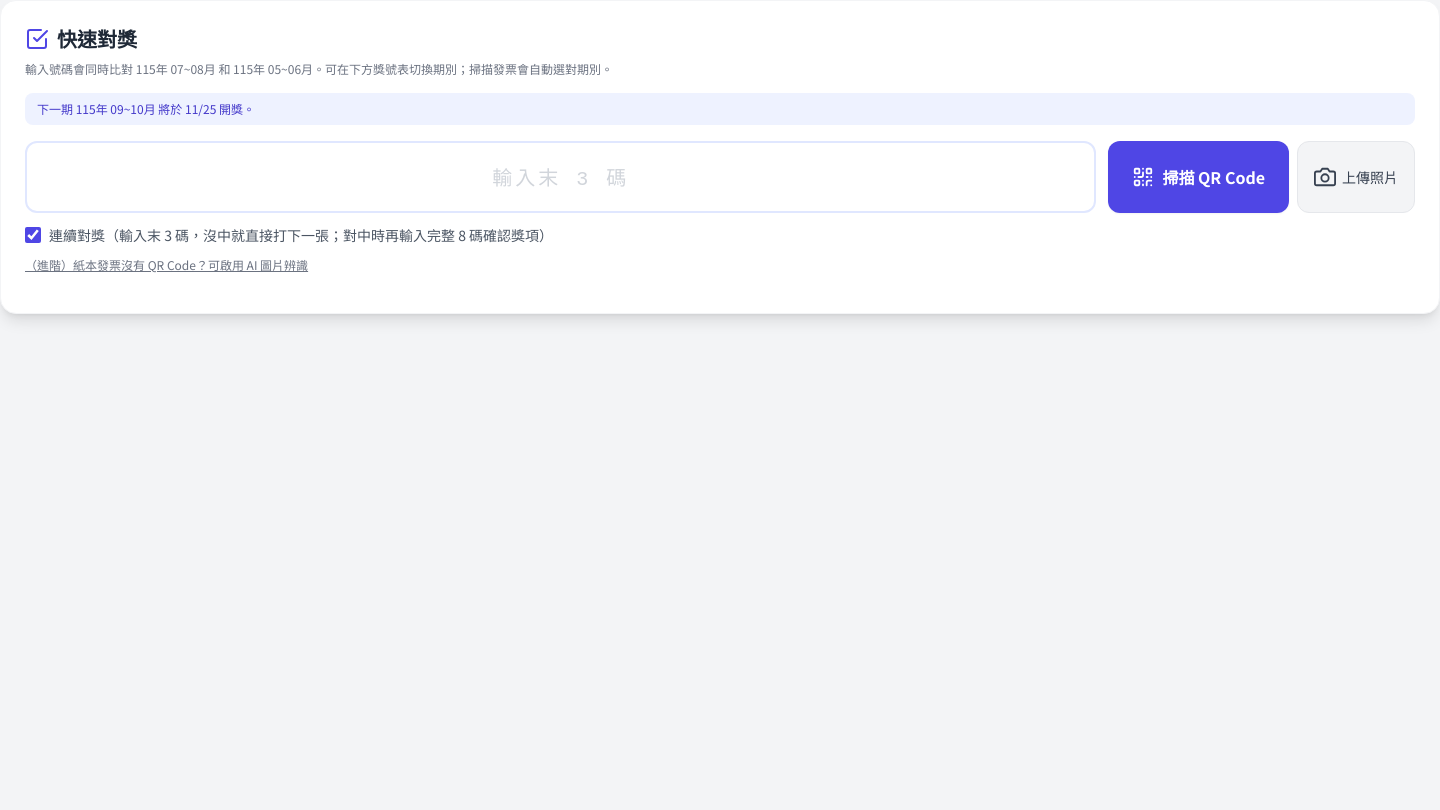
Scenario: 快速對獎畫面 › 清除按鈕清空輸入與結果
The image size is (1440, 810).
Click the checkbox labelled "連續對獎（輸入末 3 碼，沒中就直接打下一張；對中時再輸入完整 8 碼確認獎項）" at coordinates (33, 235), box [25,227,41,243]
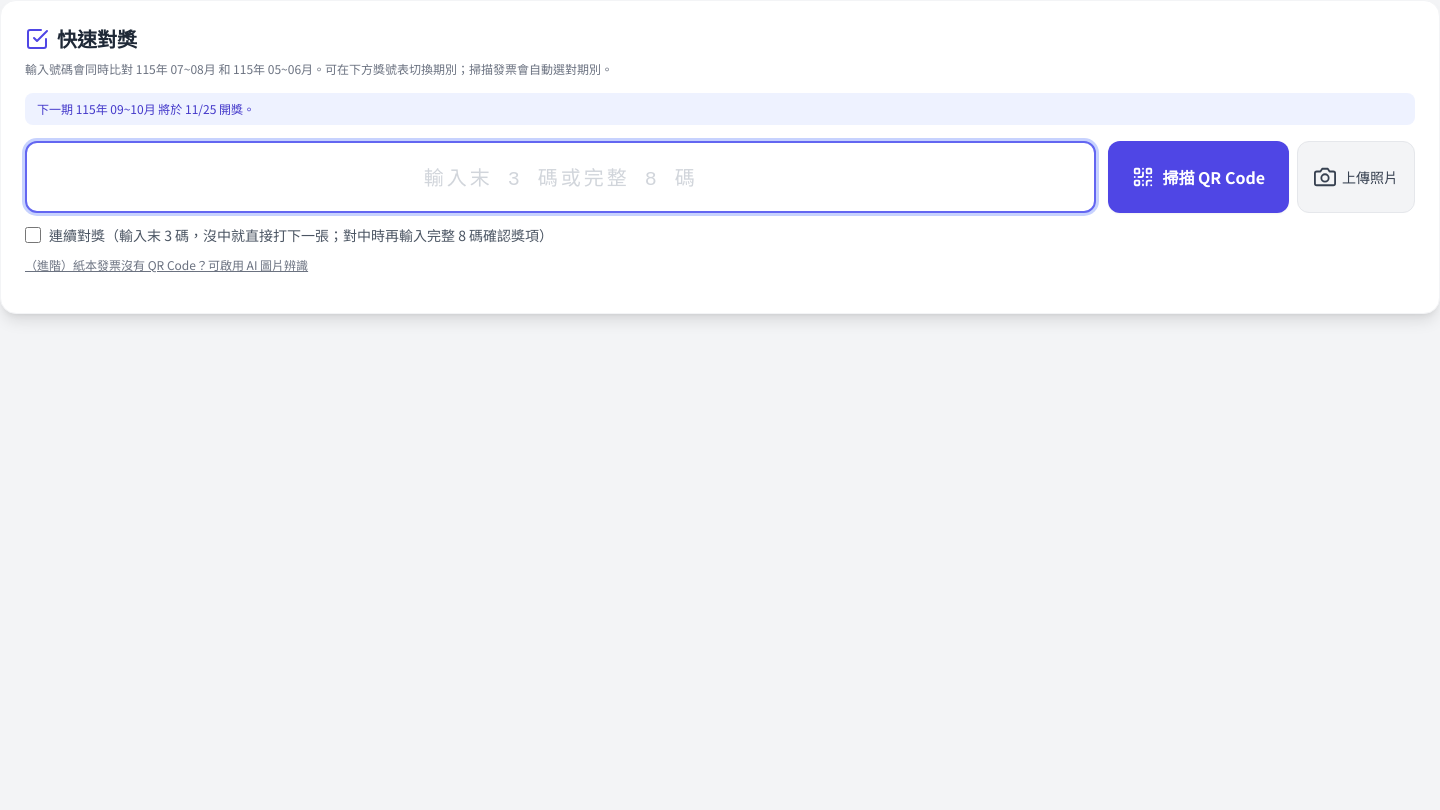
Type "835" into the field named "發票號碼" at coordinates (561, 177), box [25,141,1096,213]
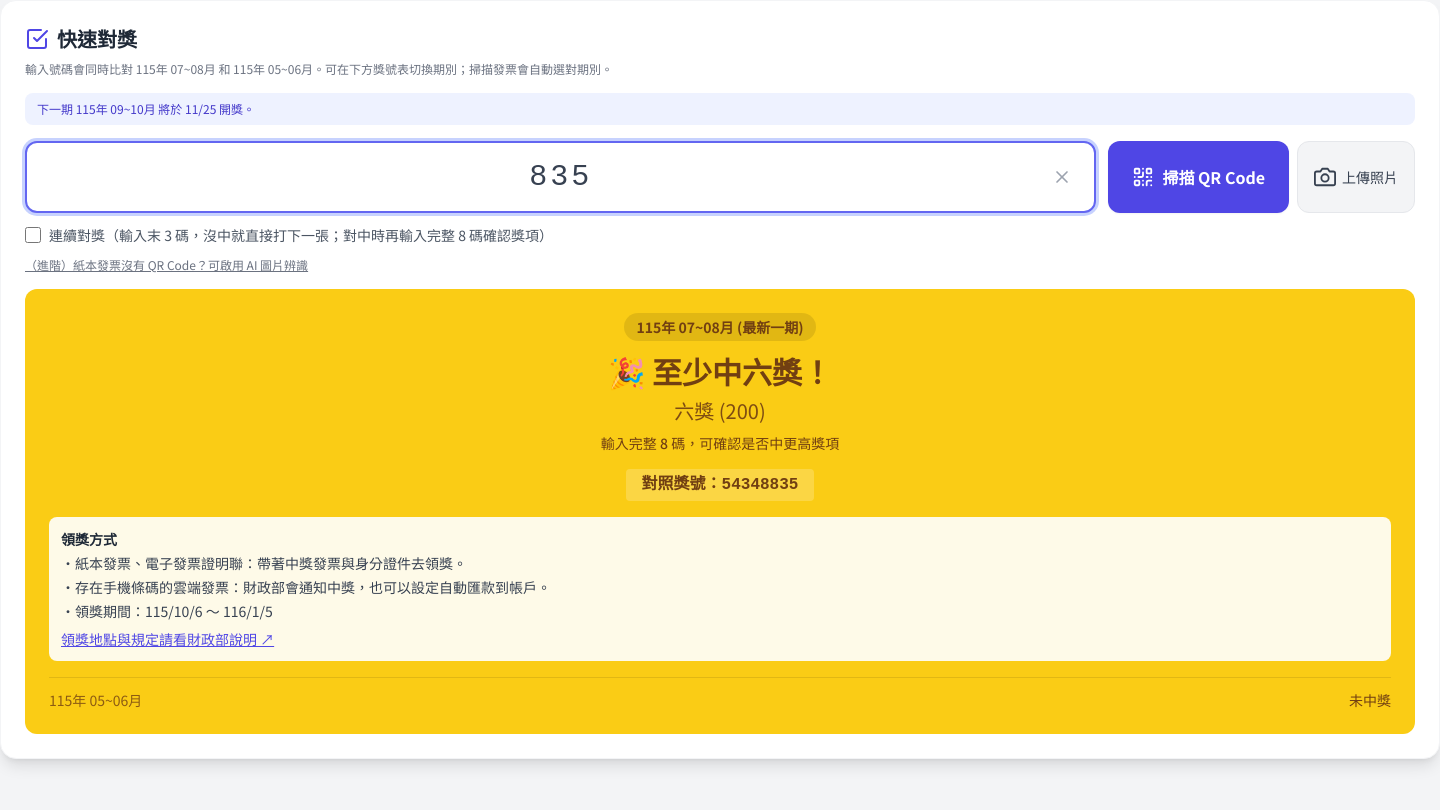
Click the button named "清除輸入" at coordinates (1062, 177), box [1044,159,1080,195]
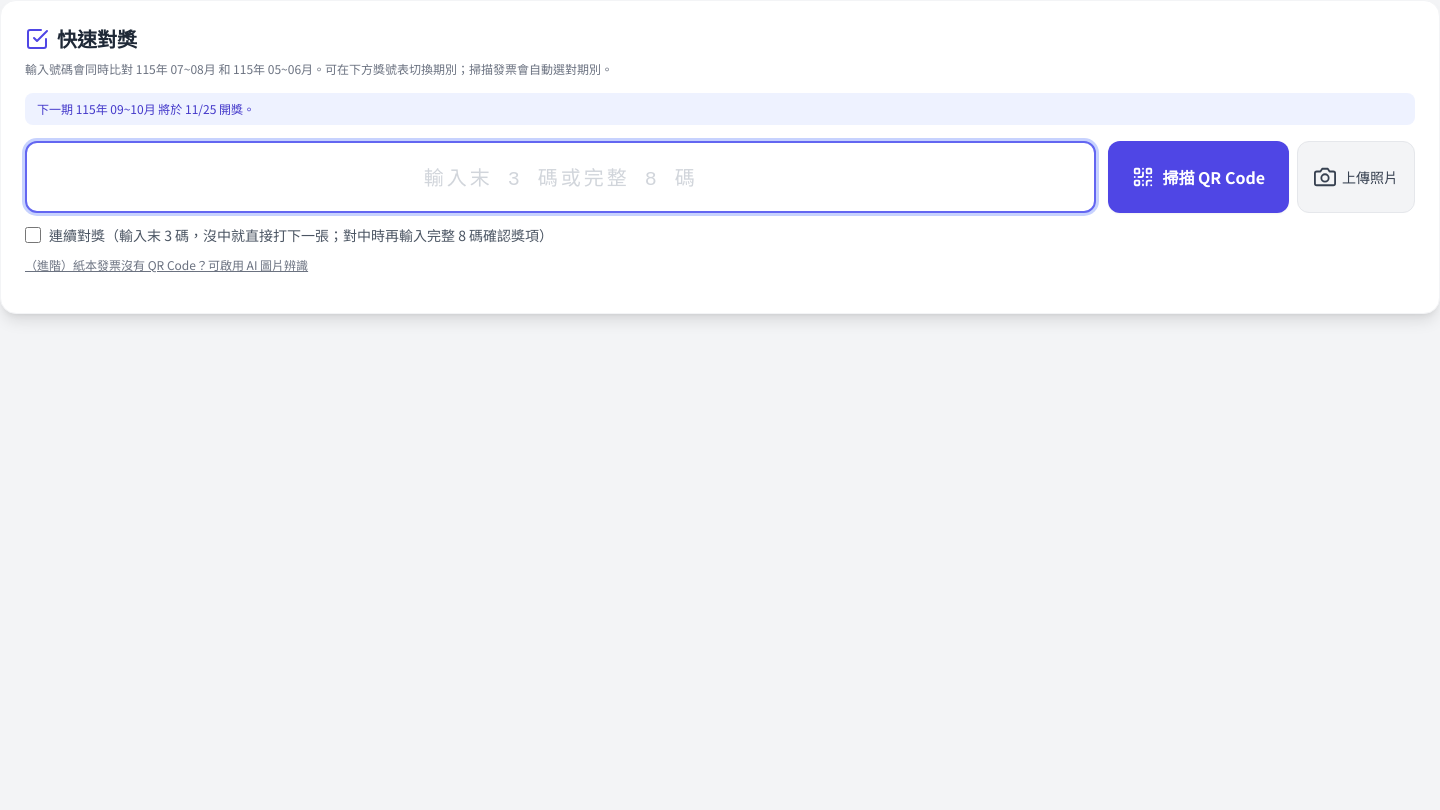
Expected: the field named "發票號碼" is empty, [25,141,1096,213]
Expected: the text "🎉 至少中六獎！" is gone
